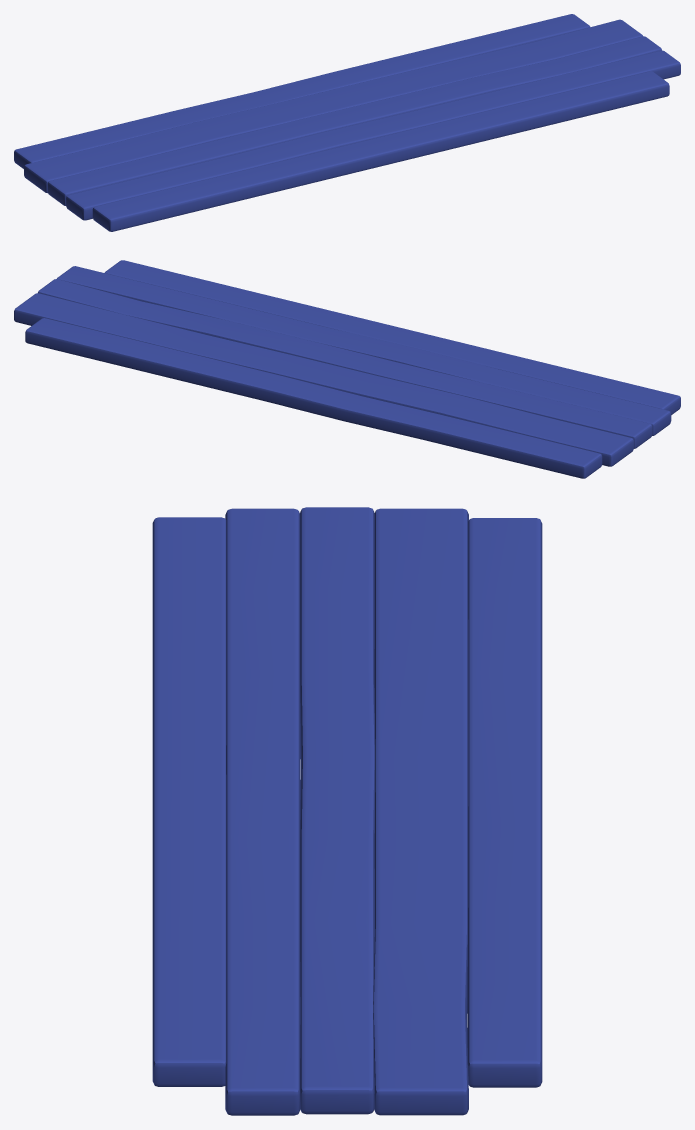
The model's file is SM_balk_floor_R.fbx.
3 renders of one model, top to bottom at view 1: azimuth 30°, elevation 25°; view 2: azimuth 150°, elevation 25°; view 3: azimuth 270°, elevation 25°, orthographic. The views are drawn at different scales.
Visible parts, largest first — view 1: SM_Balk_floor; view 2: SM_Balk_floor; view 3: SM_Balk_floor.
Boxes of the visible parts, <box> form: SM_Balk_floor: <box>14,14,680,231</box>; SM_Balk_floor: <box>14,260,680,478</box>; SM_Balk_floor: <box>152,507,542,1115</box>.
Bounding box in the file's own units: 7.36 × 0.1872 × 2.08.
